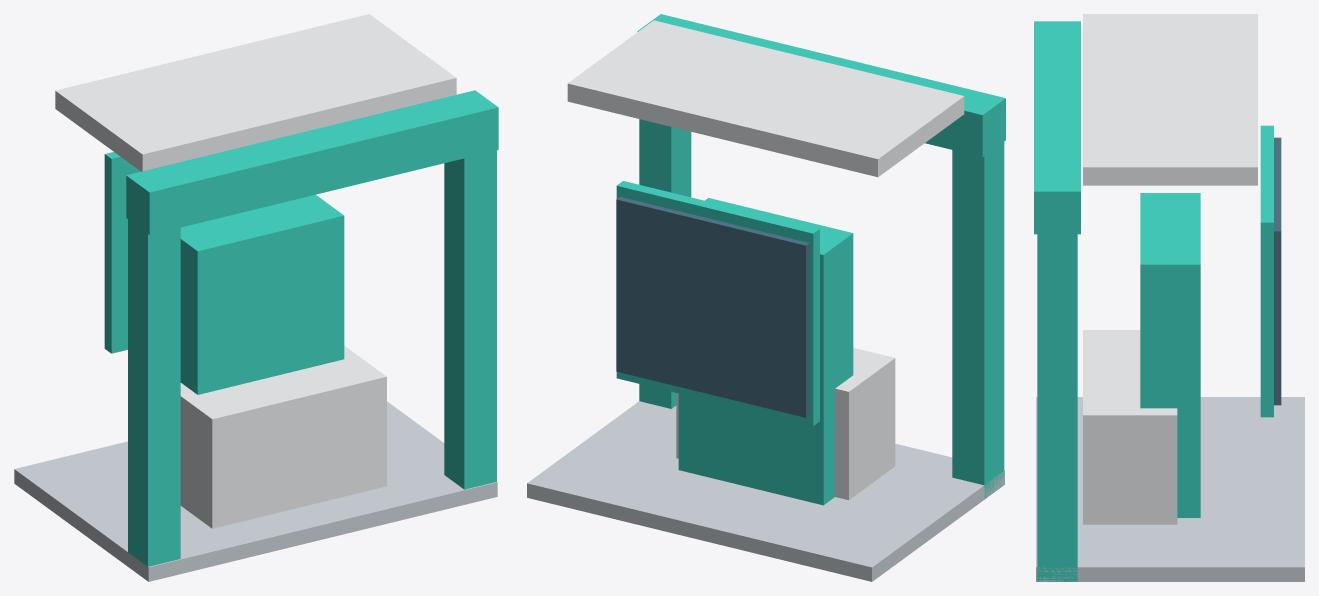
3 views of the same model, side by side, from view 1: azimuth 30°, elevation 25°; view 2: azimuth 150°, elevation 25°; view 3: azimuth 270°, elevation 25° (orthographic).
Visible parts, largest first — view 1: Exhibition Booth Concept; view 2: Exhibition Booth Concept; view 3: Exhibition Booth Concept.
Part boxes in pixels (bbox=[...]): Exhibition Booth Concept: bbox=[14, 14, 498, 581]; Exhibition Booth Concept: bbox=[527, 14, 1005, 581]; Exhibition Booth Concept: bbox=[1034, 14, 1304, 581].
Size of the model in its own units: 3 by 3.34 by 2.01.
